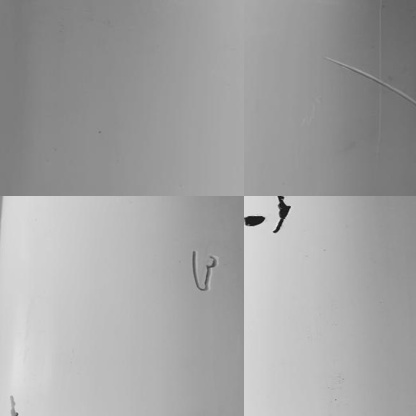fengxi: (188, 250, 221, 294)
kongdong: (275, 197, 296, 230), (244, 212, 264, 229)
sunshang: (330, 60, 413, 108)
